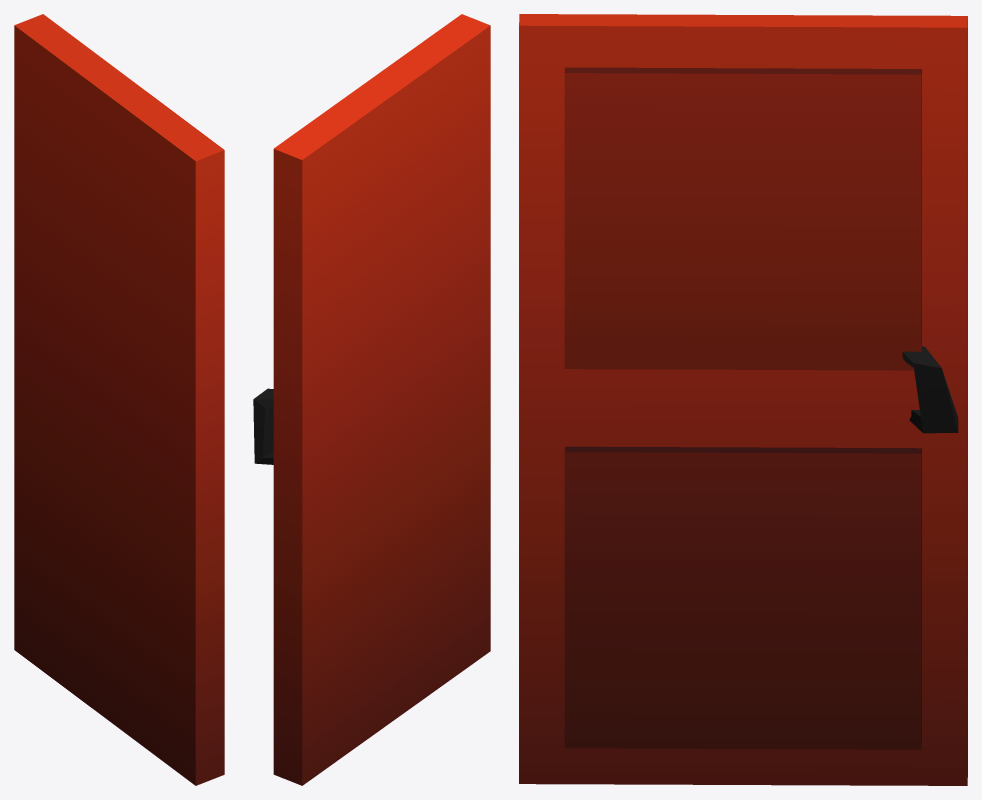
File: SM_Door.fbx
3 renders of one model, left to right at view 1: azimuth 30°, elevation 25°; view 2: azimuth 150°, elevation 25°; view 3: azimuth 270°, elevation 25°, orthographic. The views are drawn at different scales.
Visible parts, largest first — view 1: SM_Door; view 2: SM_Door; view 3: SM_Door.
Boxes of the visible parts, x1=… form: SM_Door: x1=14, y1=14, x2=224, y2=785; SM_Door: x1=253, y1=14, x2=490, y2=785; SM_Door: x1=519, y1=14, x2=967, y2=785.
Bounding box in the file's own units: 22.54 × 215 × 115.
